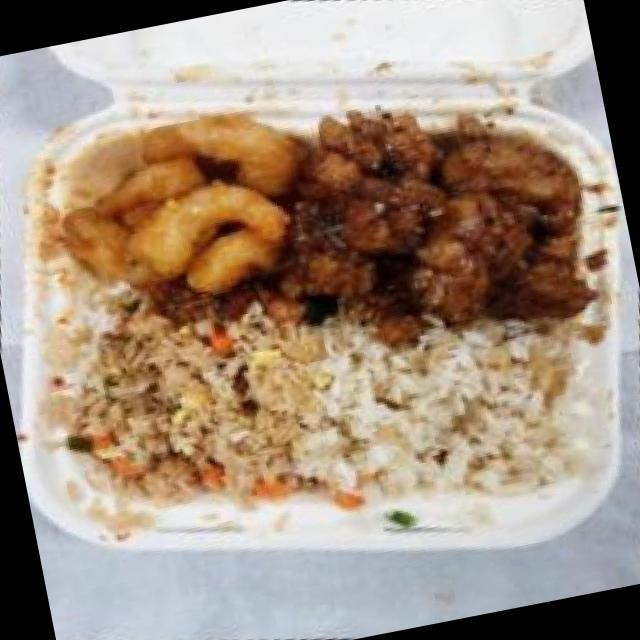Fried Rice: (22, 264, 345, 552)
Honey Walnut Shrimp: (21, 65, 342, 366)
The Original Orange Chicken: (232, 52, 638, 400)
White Steamed Rice: (257, 258, 640, 555)
